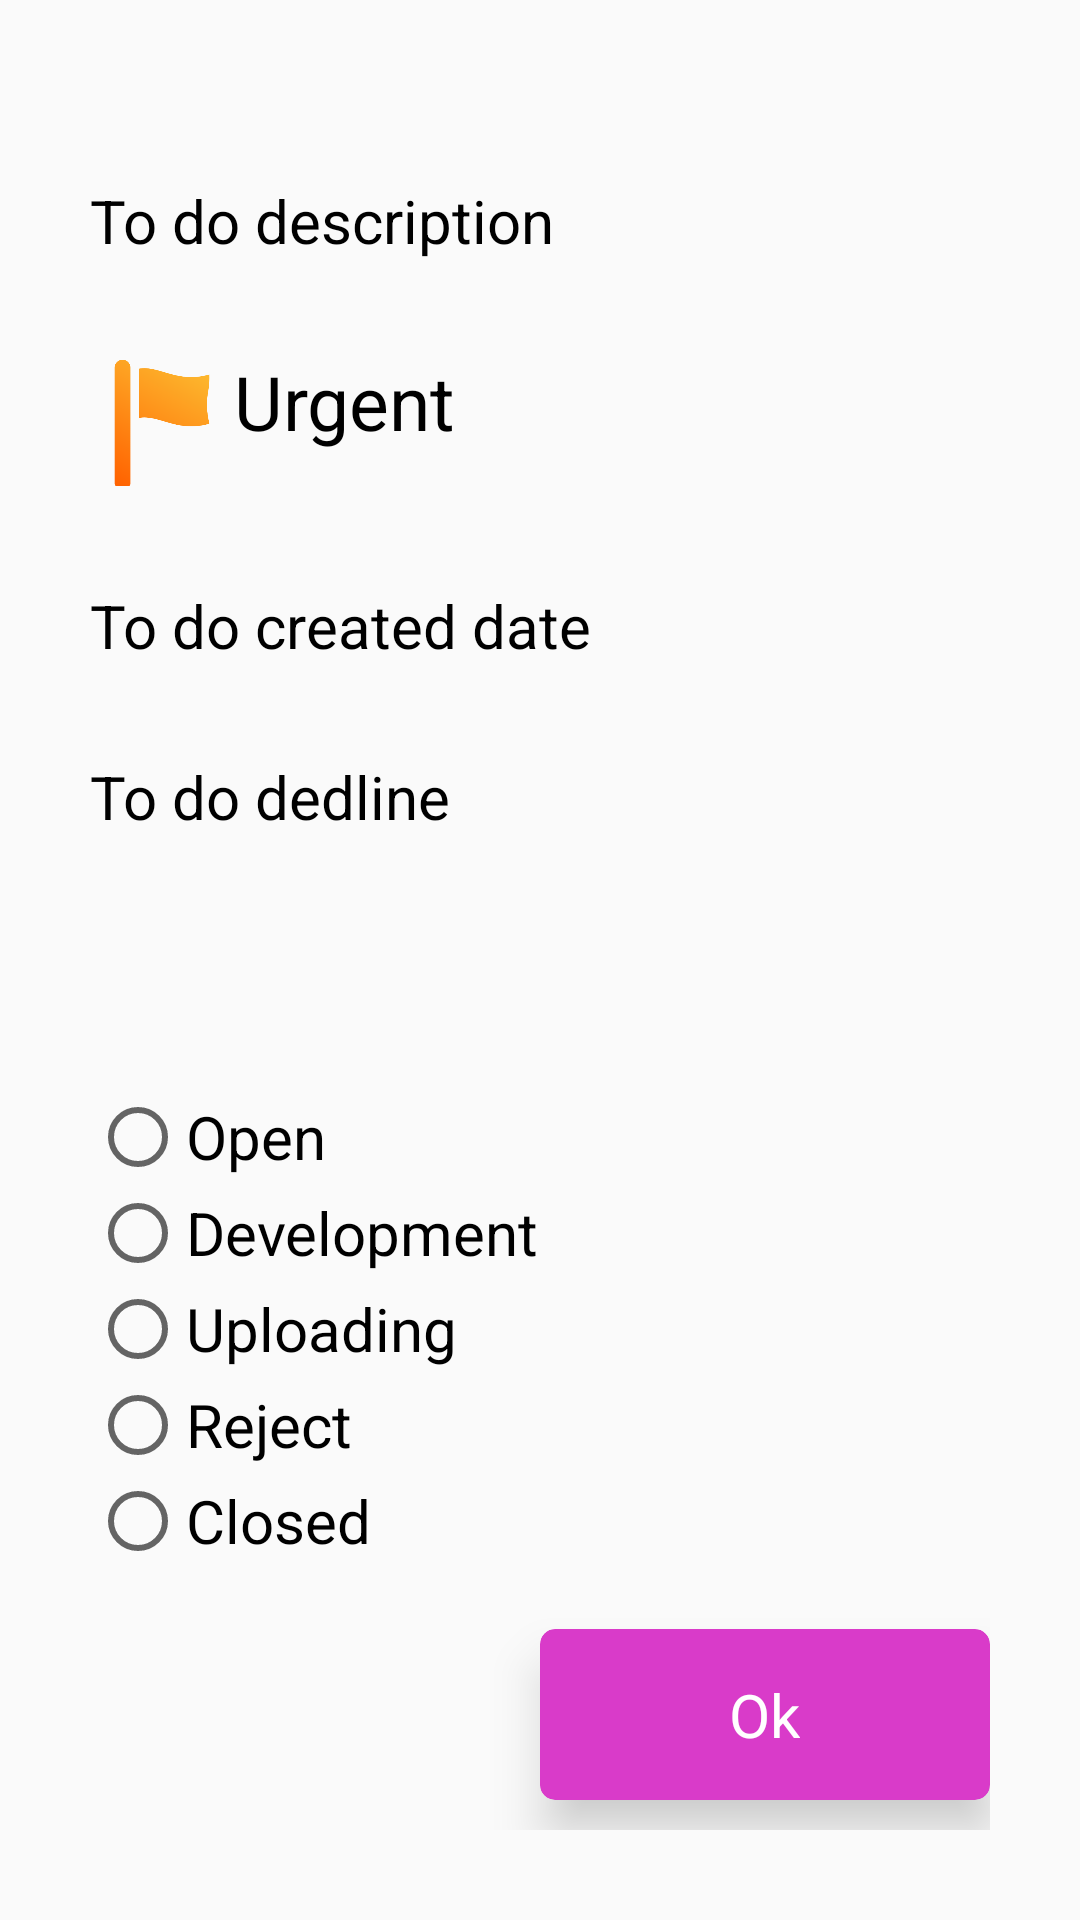

Icon bounding boxes for this 1080 × 1920 phone screenshot, format (x1, y1, x2, y2):
high flag: (114, 360, 210, 486)
